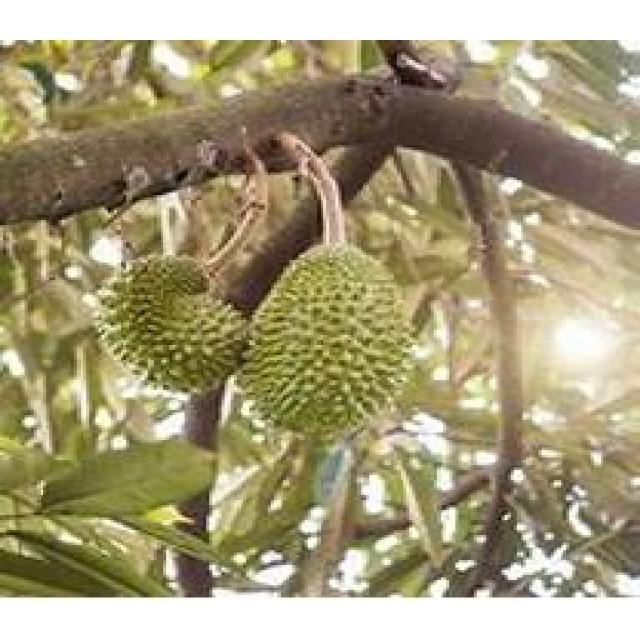fruit: (225, 222, 437, 470), (74, 233, 261, 415)
